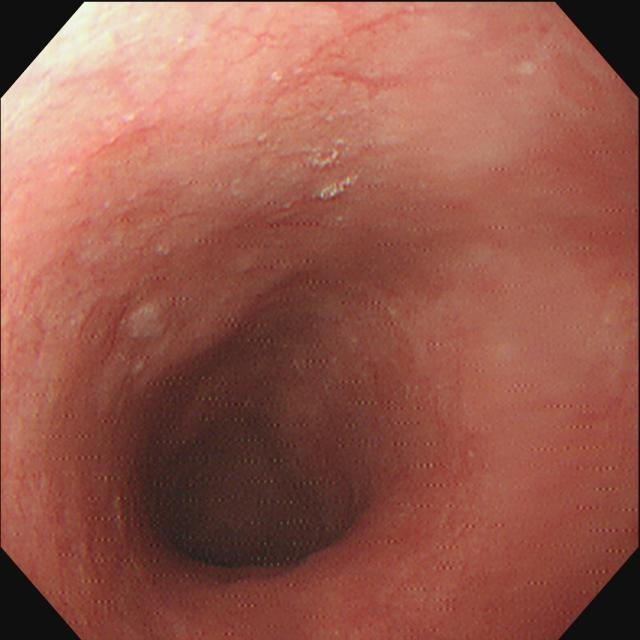E: (155, 428, 347, 573)
J: (128, 306, 166, 376), (310, 146, 350, 203)
